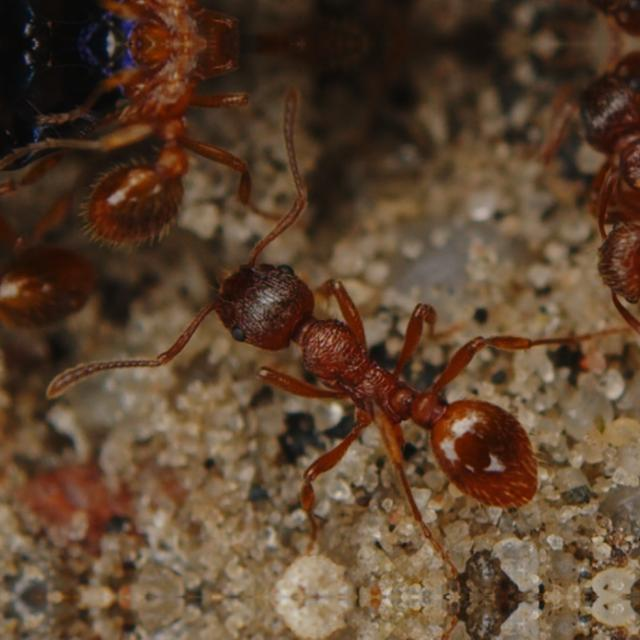Myrmica: (152, 206, 598, 540), (29, 46, 324, 274), (498, 43, 640, 360)
